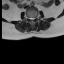CCS_normal: (31, 16, 33, 22)
LFS_stenosis: (34, 15, 36, 20)
LLS_normal: (33, 16, 34, 20)
RFS_normal: (27, 16, 29, 20)
RLS_normal: (29, 16, 31, 21)
